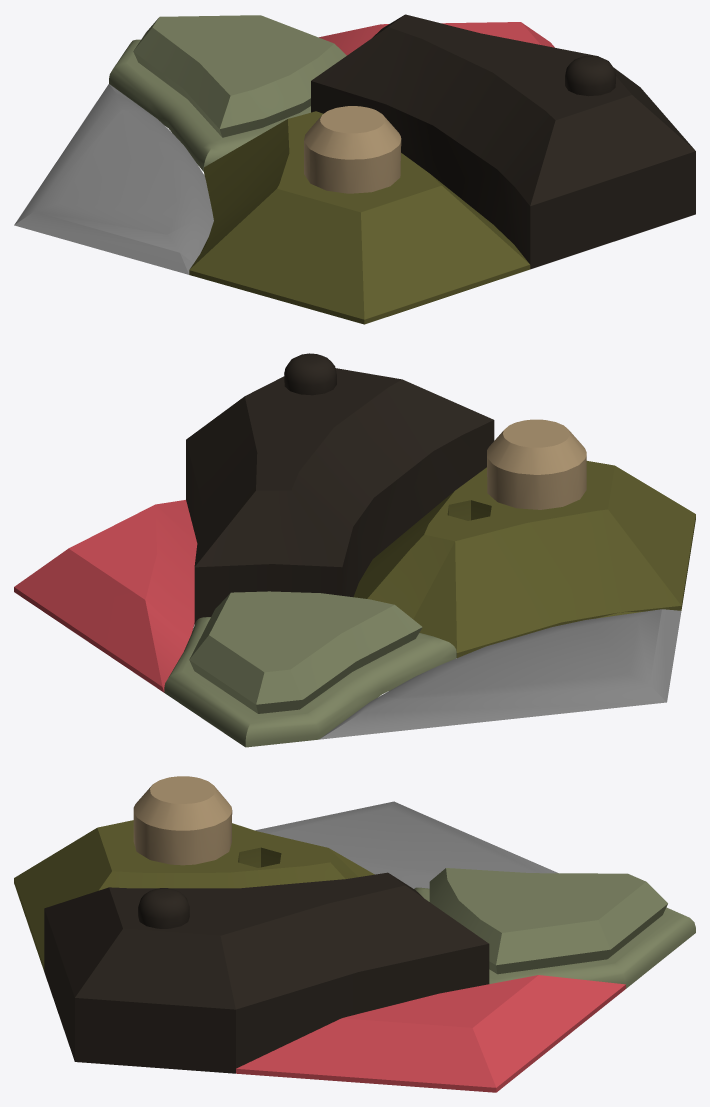
Rendered from trashpile.fbx.
3 views of the same model, one above another, from view 1: azimuth 30°, elevation 25°; view 2: azimuth 150°, elevation 25°; view 3: azimuth 270°, elevation 25° (orthographic). The views are drawn at different scales.
Parts seen in each view (by area): view 1: trashpile; view 2: trashpile; view 3: trashpile.
Boxes of the visible parts, left/top/right/bottom form: trashpile: left=14, top=14, right=695, bottom=324; trashpile: left=14, top=353, right=695, bottom=747; trashpile: left=14, top=776, right=695, bottom=1092.
Bounding box in the file's own units: 1259 × 280 × 1253.
